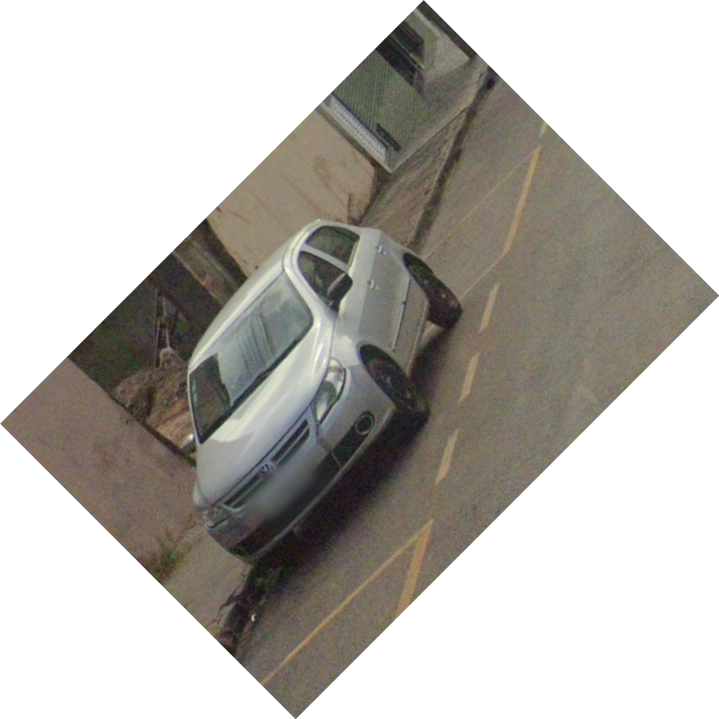car: (182, 215, 469, 586)
